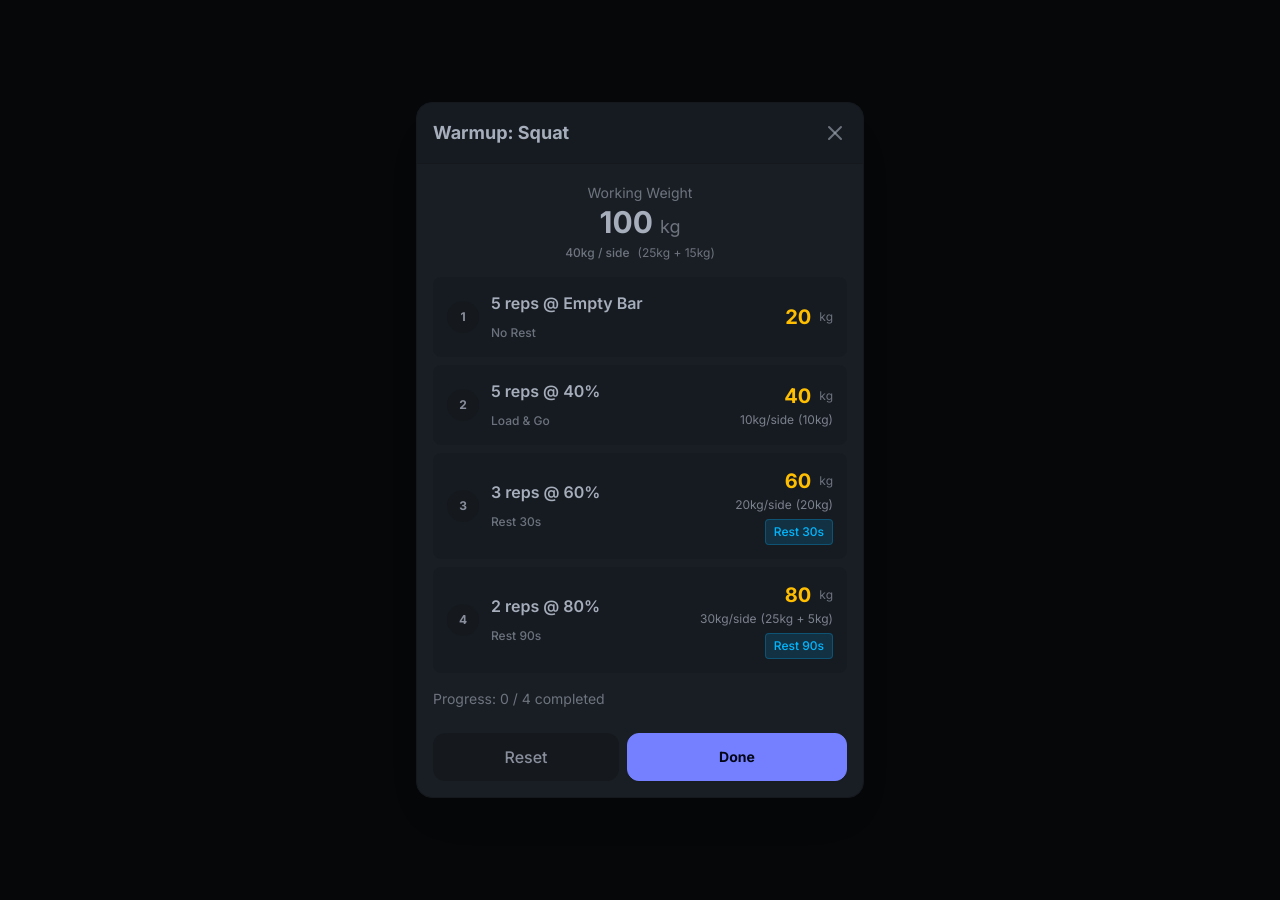
Test: WarmupCalculator › should reset warmup state when opening calculator for new session with same weight
Click the button "1 5 reps @ Empty Bar No Rest": coordinates (463, 317) [447, 291, 777, 343]
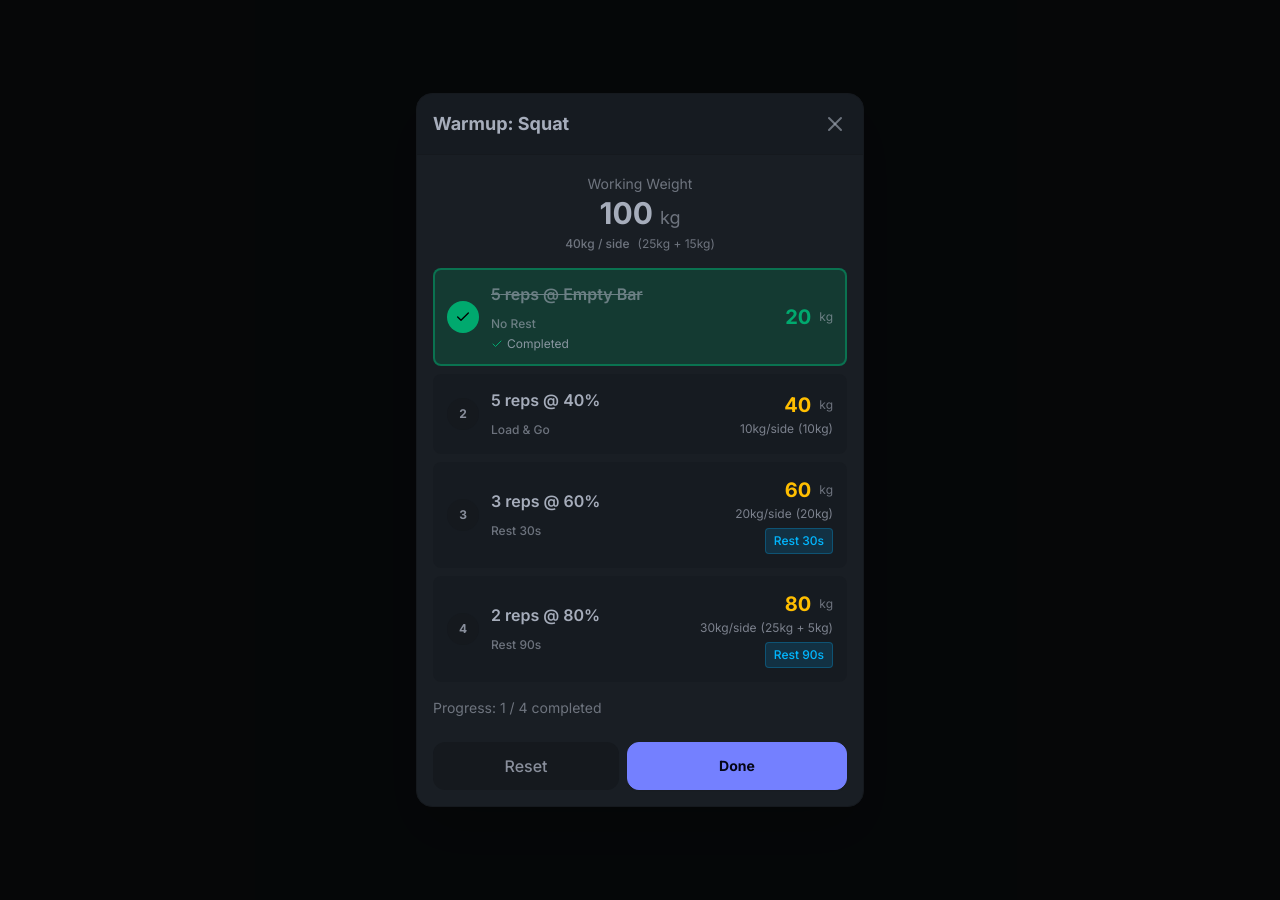
Click the button "2 5 reps @ 40% Load & Go": coordinates (463, 414) [447, 388, 732, 440]
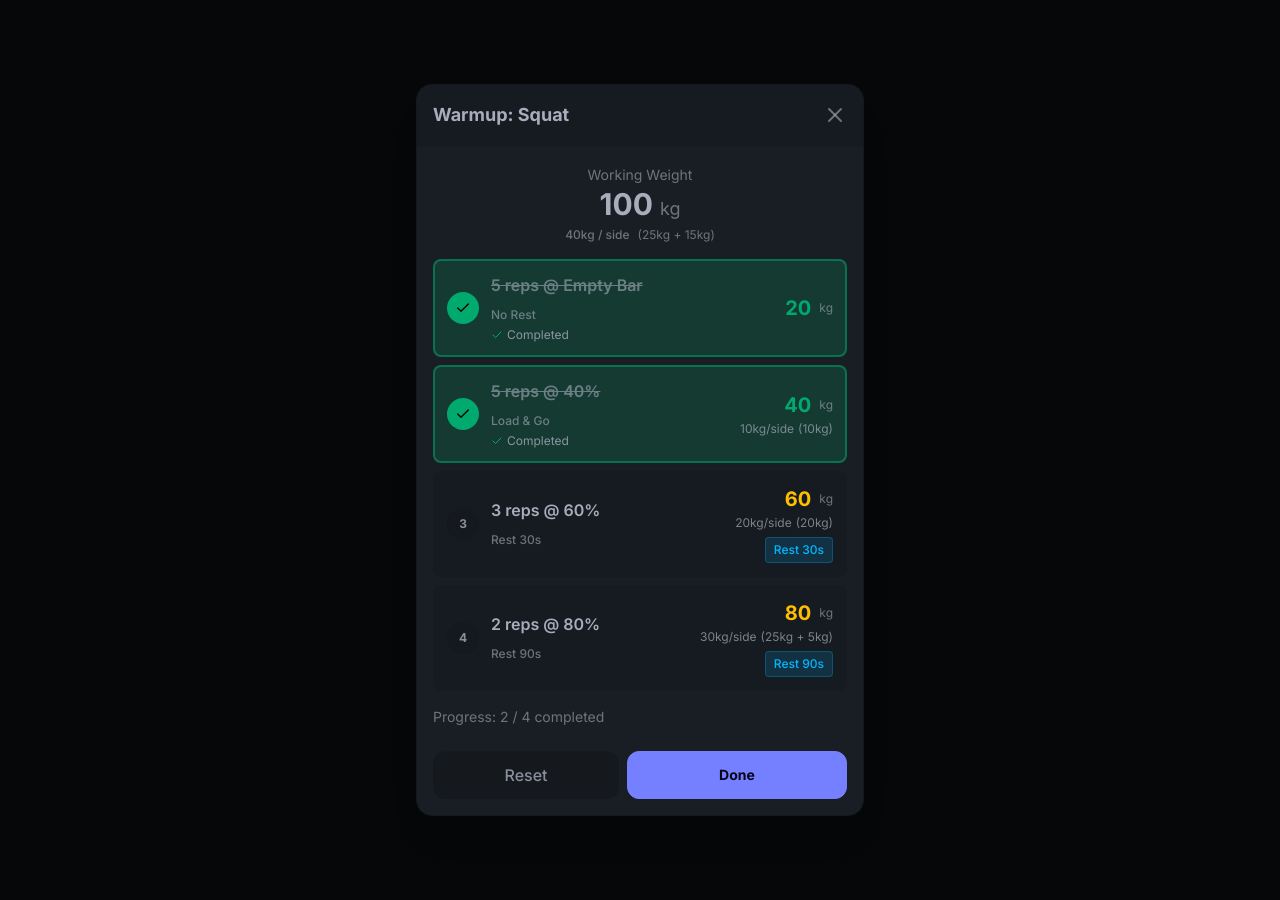
Click the button "3 3 reps @ 60% Rest 30s": coordinates (463, 524) [447, 498, 727, 550]
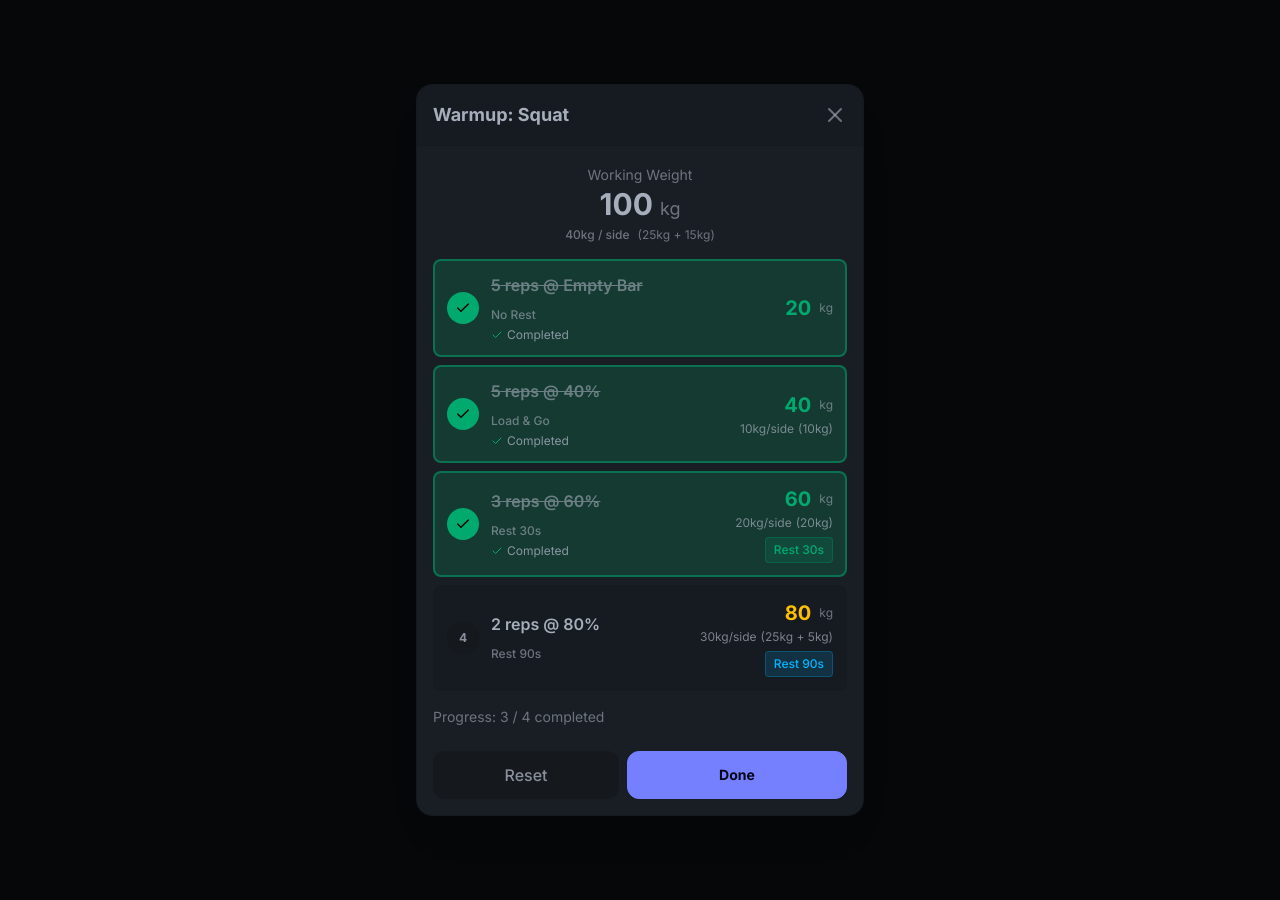
Click the button "4 2 reps @ 80% Rest 90s": coordinates (570, 638) [447, 612, 692, 664]
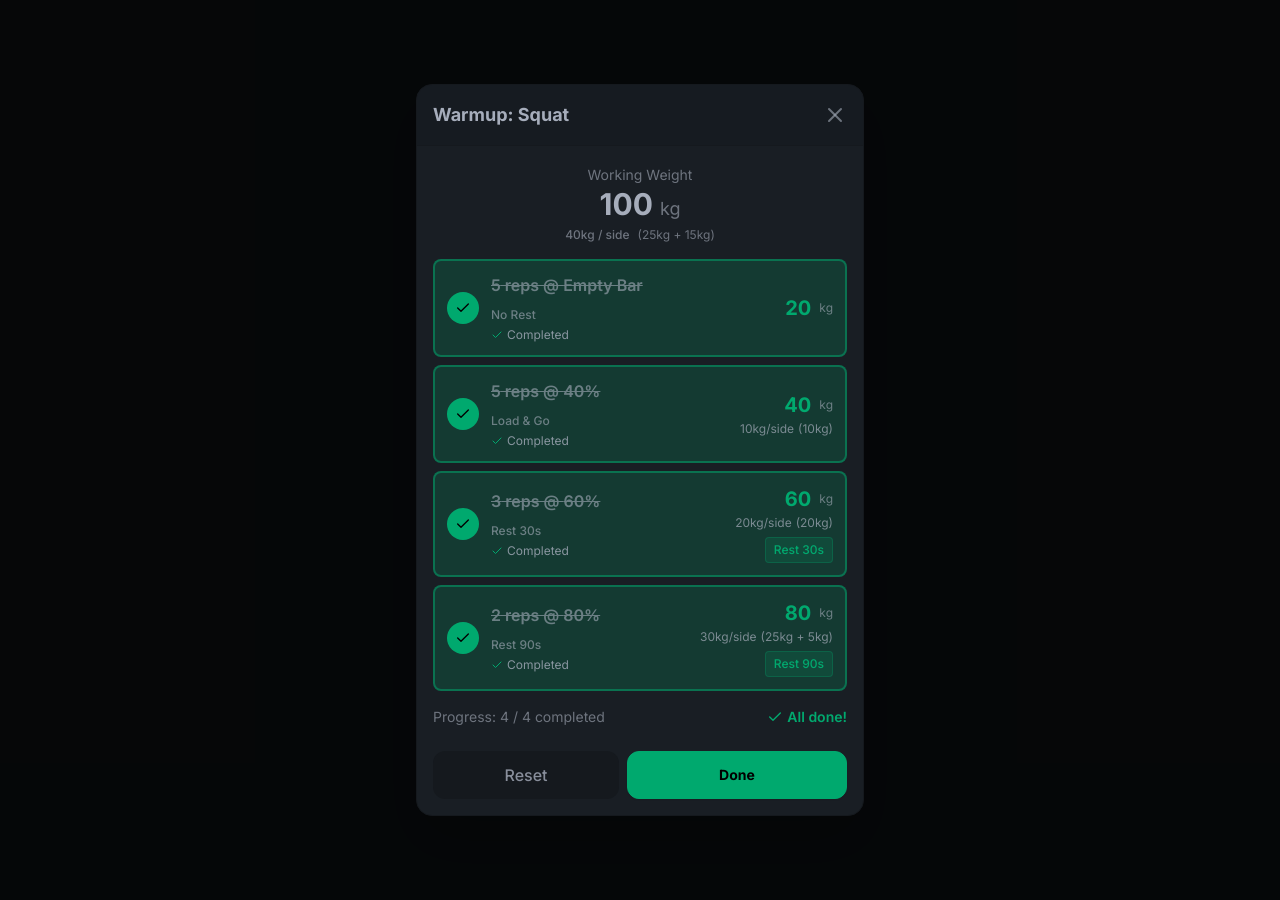
Result: the text "All done!" is shown at [767, 707, 847, 727]
